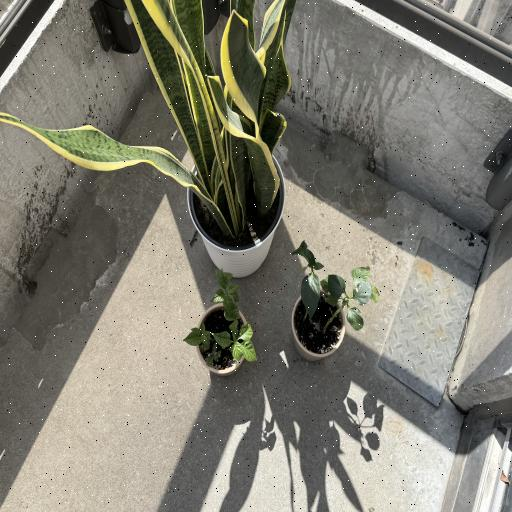Plant Pot: (187, 142, 286, 276), (198, 300, 255, 376), (294, 290, 348, 362)
